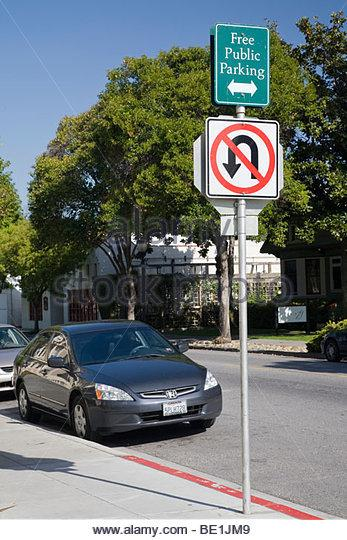no_u_turn: (209, 122, 274, 193)
